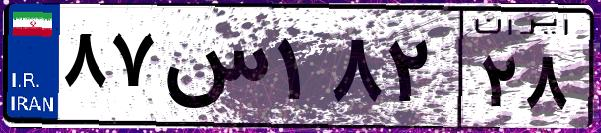1: (270, 28, 330, 110)
2: (385, 28, 445, 110), (475, 38, 525, 113)
7: (110, 28, 158, 98)
8: (330, 28, 385, 110), (57, 26, 110, 100), (525, 38, 570, 115)
س: (158, 20, 270, 120)
